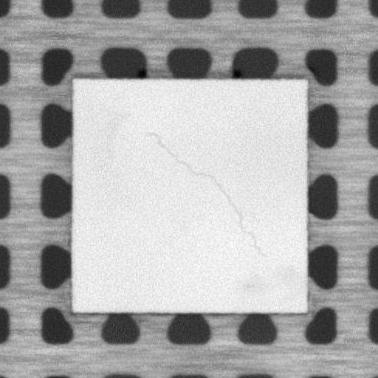DIE_CRACK: (152, 131, 262, 254)
